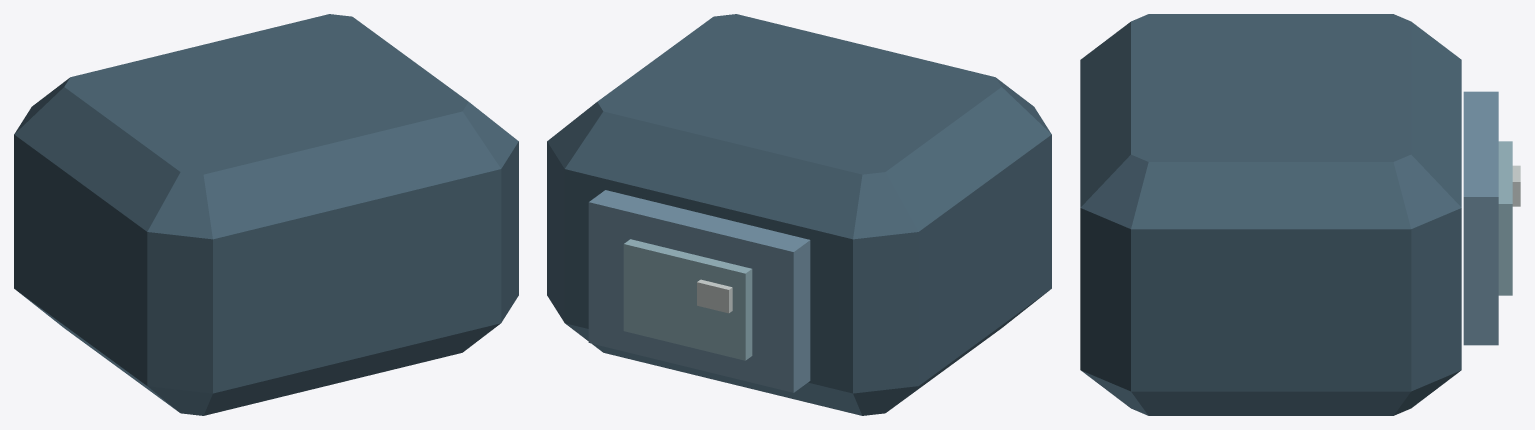
The model's file is droneGimbal.glb.
3 views of the same model, side by side, from view 1: azimuth 30°, elevation 25°; view 2: azimuth 150°, elevation 25°; view 3: azimuth 270°, elevation 25° (orthographic). The views are drawn at different scales.
Parts seen in each view (by area): view 1: droneGimbal; view 2: droneGimbal; view 3: droneGimbal.
Boxes of the visible parts, box(x1,y1,x2,y2) form: droneGimbal: box(14, 14, 518, 415); droneGimbal: box(547, 14, 1051, 415); droneGimbal: box(1080, 14, 1520, 415).
Bounding box in the file's own units: 0.58 × 0.36 × 0.5655.
